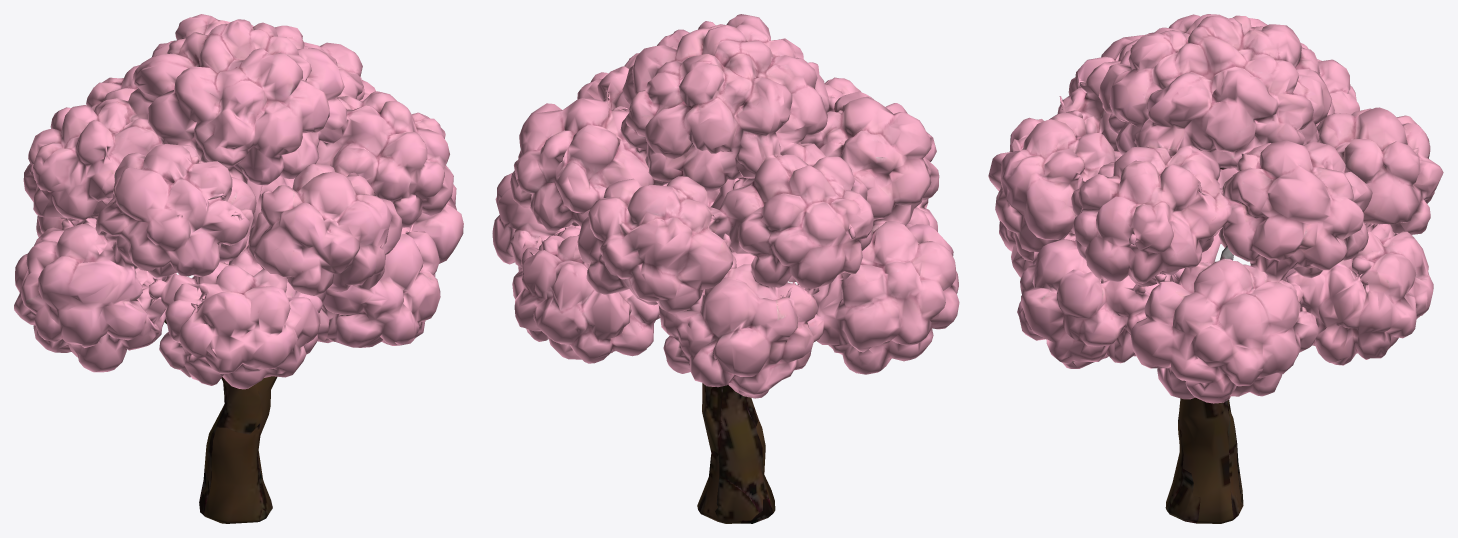
File: sakura-4.glb
3 renders of one model, left to right at view 1: azimuth 30°, elevation 25°; view 2: azimuth 150°, elevation 25°; view 3: azimuth 270°, elevation 25°, orthographic. The views are drawn at different scales.
Size of the model in its own units: 1.78 by 1.9 by 1.58.
1 material, 1 textured.
